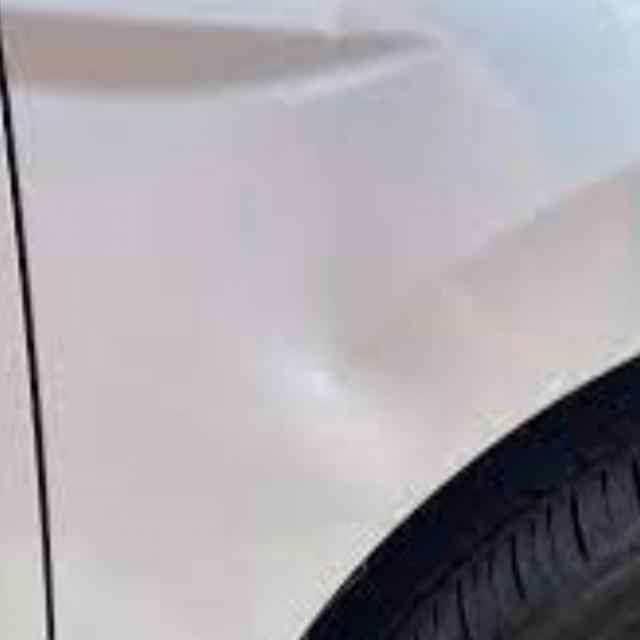dents: (277, 246, 483, 482)
